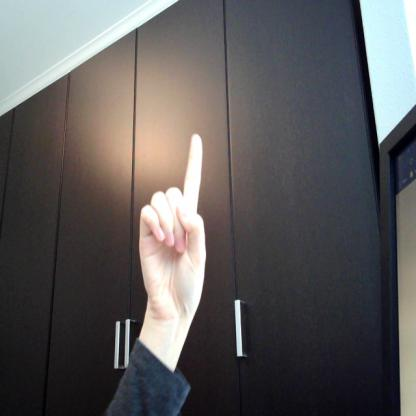one: (133, 128, 223, 334)
